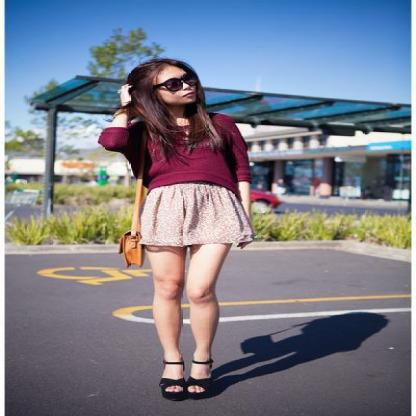bag: (123, 219, 161, 266)
shirt: (98, 113, 262, 201)
shoe: (159, 376, 205, 401)
skirt: (124, 179, 250, 249)
sunglass: (162, 62, 204, 91)
